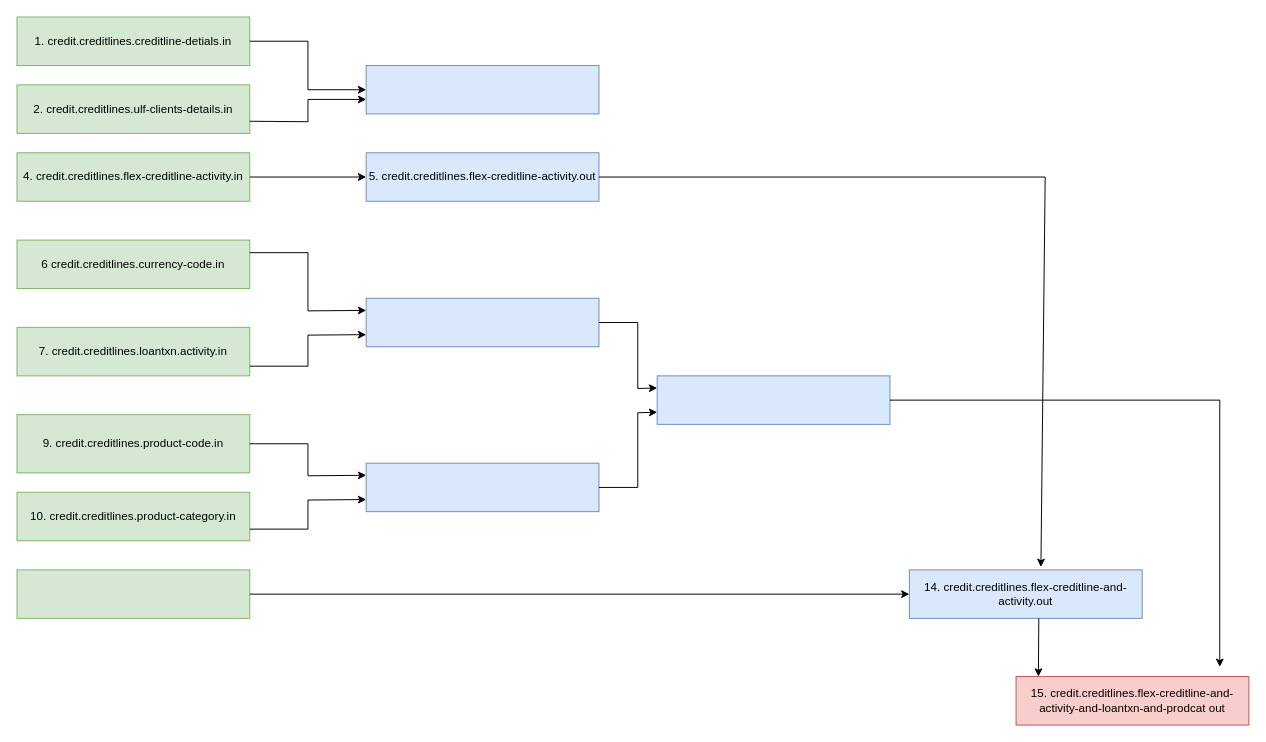
This 1266x742 diagram has some shape labels left out. The shapes that lost their labels are listed below. From the top down, each one's centre as x and y in pixels, then its label:
point 482,89: 3. credit.creditlines.creditline-detials.out
point 482,322: 8. credit.creditlines.currency-code-loantxn.activity.out
point 773,399: 12. credit.creditlines.currency-loantxn-product-category-code.out
point 482,487: 11. credit.creditlines.product-category-product-code.out
point 133,593: 13. credit.creditlines.flex-creditline.in
